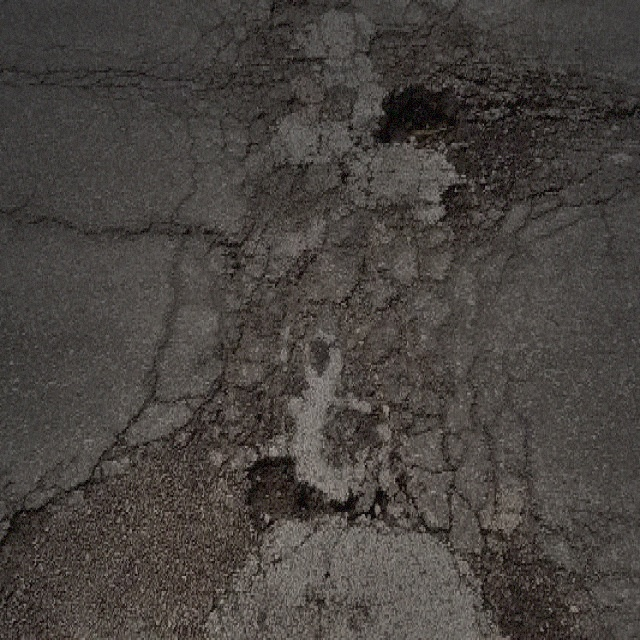pothole: (374, 79, 461, 149), (244, 450, 311, 536)
